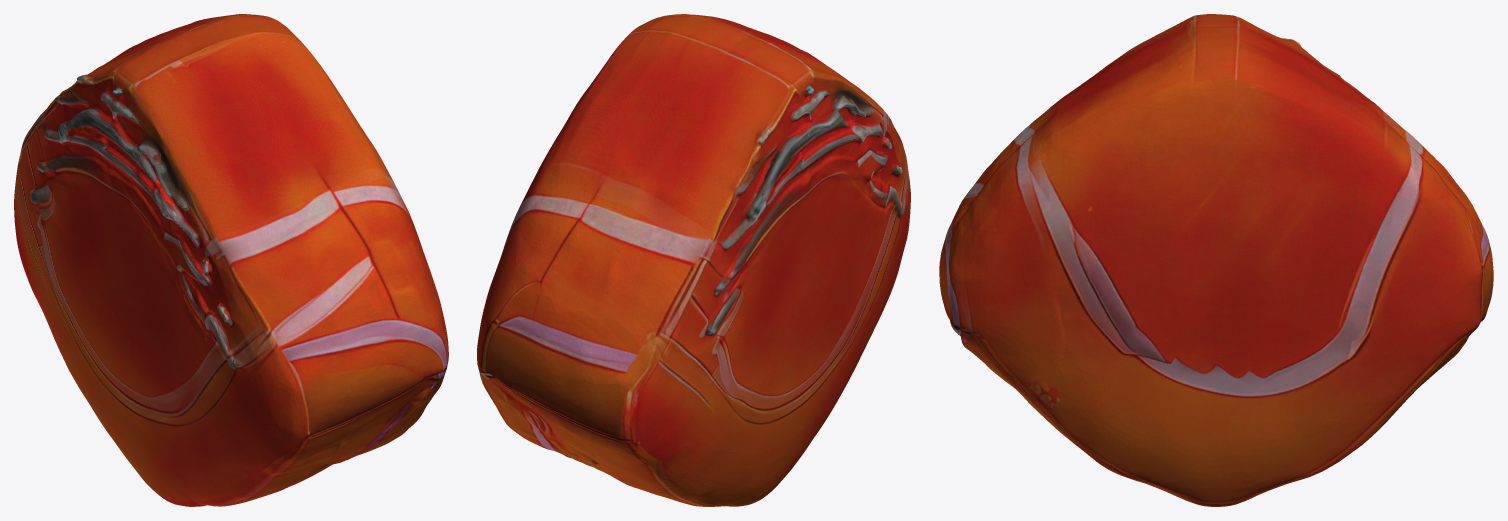
The model's file is image_0002_segmented.glb.
3 views of the same model, side by side, from view 1: azimuth 30°, elevation 25°; view 2: azimuth 150°, elevation 25°; view 3: azimuth 270°, elevation 25° (orthographic). The views are drawn at different scales.
Parts seen in each view (by area): view 1: tmp1mr5umdn.ply; view 2: tmp1mr5umdn.ply; view 3: tmp1mr5umdn.ply.
Boxes of the visible parts, <box> form: tmp1mr5umdn.ply: <box>14,14,448,506</box>; tmp1mr5umdn.ply: <box>477,14,910,506</box>; tmp1mr5umdn.ply: <box>939,14,1493,506</box>.
Size of the model in its own units: 0.9974 by 1.73 by 2.
1 material, 1 textured.
